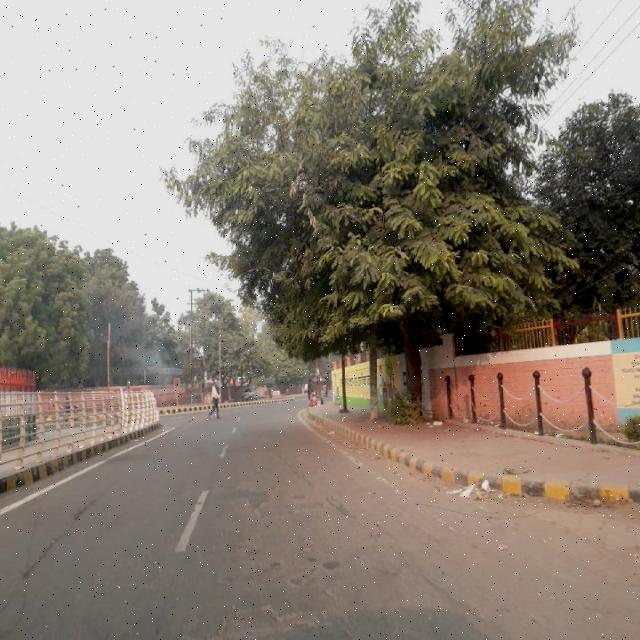D40: (196, 542, 346, 639), (190, 468, 344, 529)
D44: (356, 461, 466, 534)
